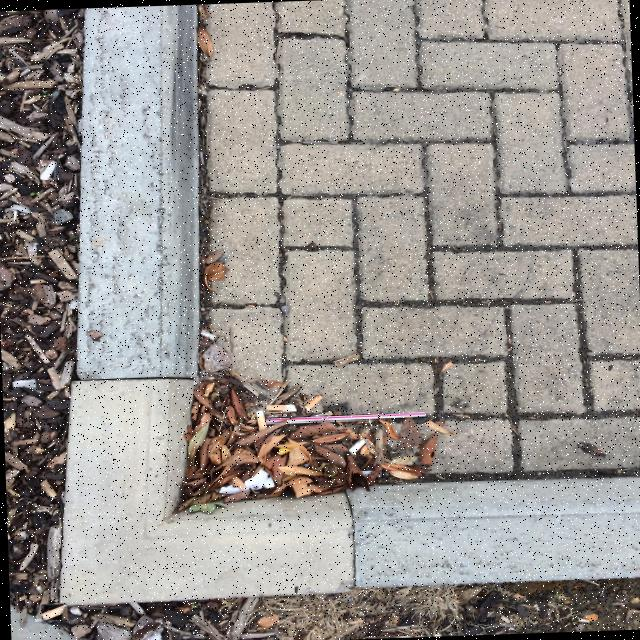Cigarette: (41, 605, 67, 620), (304, 395, 322, 412), (41, 160, 56, 180), (349, 439, 368, 453), (255, 410, 266, 431), (266, 405, 296, 411)
Normal paper: (220, 468, 274, 493)
Plastic straw: (266, 412, 425, 423)
